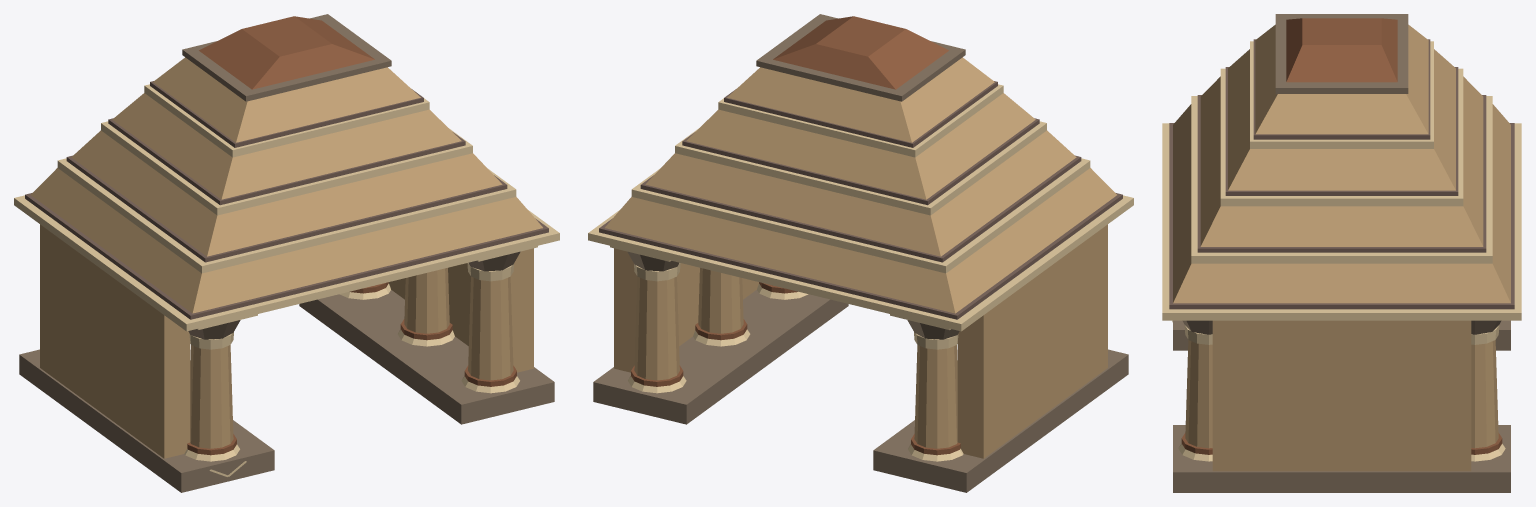
Rendered from architecture-quarter-turn-pavilion.glb.
The picture shows the model from 3 angles, left to right: view 1: azimuth 30°, elevation 25°; view 2: azimuth 150°, elevation 25°; view 3: azimuth 270°, elevation 25°; orthographic projection. The views are drawn at different scales.
Visible parts, largest first — view 1: Wing -1 inner return, Course 1 battered wall, Course 2 battered wall, Course 3 battered wall, Wing 1 plinth, Course 4 battered wall, Ridge crown, Course 1 cornice, Wing -1 plinth, Course 2 cornice, Wing 1 inner return, Pier 1.0 shaft (+10 smaller); view 2: Wing -1 inner return, Course 1 battered wall, Course 2 battered wall, Course 3 battered wall, Wing 1 plinth, Course 4 battered wall, Ridge crown, Course 1 cornice, Wing -1 plinth, Course 2 cornice, Wing 1 inner return, Pier 1.2 shaft (+11 smaller); view 3: Wing 1 inner return, Course 1 battered wall, Course 2 battered wall, Course 3 battered wall, Course 4 battered wall, Wing 1 plinth, Course 1 cornice, Ridge crown, Course 2 cornice, Course 3 cornice, Course 1 shadow, Crown saddle (+7 smaller).
Part boxes in pixels (bbox=[...]): Wing -1 inner return: bbox=[40, 224, 190, 458]; Course 1 battered wall: bbox=[31, 168, 542, 313]; Course 2 battered wall: bbox=[71, 130, 502, 256]; Course 3 battered wall: bbox=[112, 93, 461, 199]; Wing 1 plinth: bbox=[299, 290, 554, 424]; Course 4 battered wall: bbox=[153, 57, 420, 142]; Ridge crown: bbox=[199, 16, 374, 89]; Course 1 cornice: bbox=[14, 195, 559, 331]; Wing -1 plinth: bbox=[19, 349, 274, 492]; Course 2 cornice: bbox=[57, 158, 516, 273]; Wing 1 inner return: bbox=[389, 248, 533, 372]; Pier 1.0 shaft: bbox=[468, 276, 513, 380]; Wing -1 inner return: bbox=[957, 224, 1107, 458]; Course 1 battered wall: bbox=[605, 168, 1116, 313]; Course 2 battered wall: bbox=[645, 130, 1076, 256]; Course 3 battered wall: bbox=[686, 93, 1035, 199]; Wing 1 plinth: bbox=[593, 290, 848, 424]; Course 4 battered wall: bbox=[727, 57, 994, 142]; Ridge crown: bbox=[773, 16, 948, 89]; Course 1 cornice: bbox=[588, 195, 1133, 331]; Wing -1 plinth: bbox=[873, 349, 1128, 492]; Course 2 cornice: bbox=[631, 158, 1090, 273]; Wing 1 inner return: bbox=[614, 248, 758, 372]; Pier 1.2 shaft: bbox=[634, 276, 679, 380]; Wing 1 inner return: bbox=[1212, 320, 1471, 471]; Course 1 battered wall: bbox=[1173, 104, 1510, 303]; Course 2 battered wall: bbox=[1200, 76, 1483, 246]; Course 3 battered wall: bbox=[1228, 49, 1455, 190]; Course 4 battered wall: bbox=[1255, 24, 1428, 134]; Wing 1 plinth: bbox=[1173, 425, 1510, 492]; Course 1 cornice: bbox=[1162, 123, 1521, 320]; Ridge crown: bbox=[1286, 18, 1397, 82]; Course 2 cornice: bbox=[1191, 96, 1492, 263]; Course 3 cornice: bbox=[1220, 68, 1463, 206]; Course 1 shadow: bbox=[1169, 123, 1514, 309]; Crown saddle: bbox=[1275, 14, 1408, 93].
Size of the model in its own units: 10 by 9 by 8.
